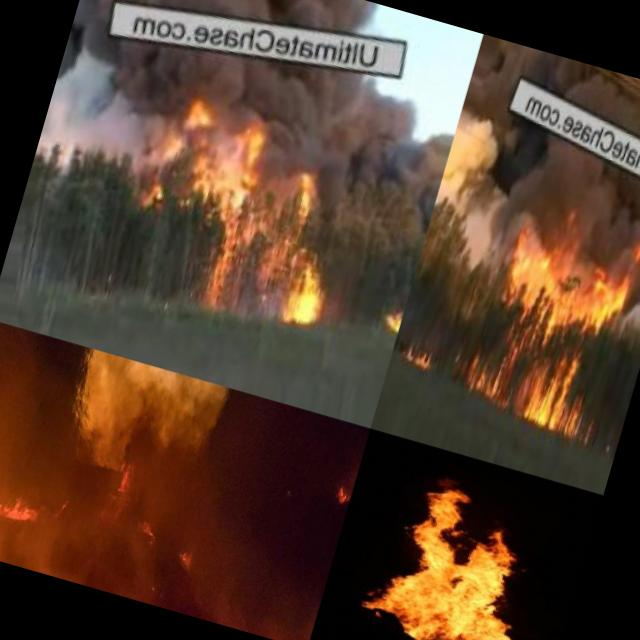fire: (349, 468, 560, 640), (500, 226, 640, 348), (160, 103, 288, 210), (268, 232, 356, 342), (521, 348, 614, 439), (0, 474, 57, 547), (466, 346, 520, 404), (168, 522, 212, 577), (125, 500, 162, 564), (104, 446, 138, 508), (401, 336, 443, 376), (330, 466, 358, 511)
smoke: (257, 62, 439, 222), (422, 118, 552, 274), (36, 56, 188, 183)
